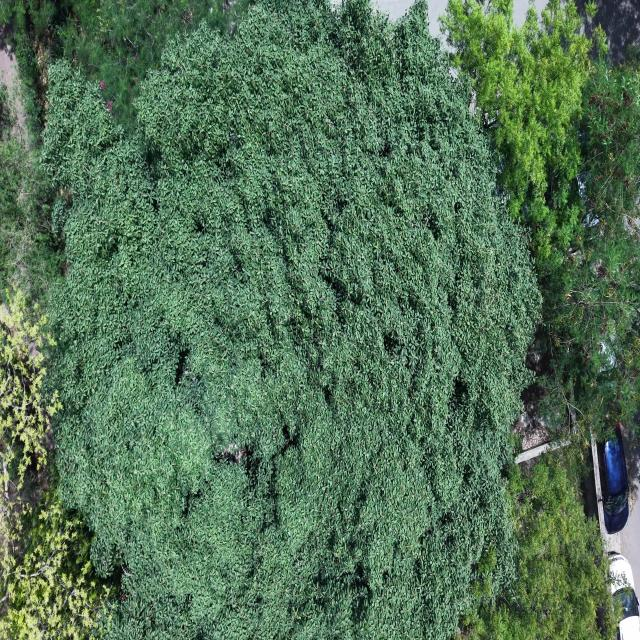DRY_AREA: (0, 26, 24, 133)
VEGETATION_TREE: (0, 0, 639, 639), (44, 0, 539, 638), (445, 0, 639, 440), (447, 0, 639, 444), (0, 88, 113, 639), (442, 0, 603, 268), (0, 291, 113, 639), (541, 51, 639, 430), (0, 0, 250, 123), (467, 455, 616, 639), (0, 488, 115, 639), (0, 291, 60, 573), (0, 85, 63, 303), (583, 48, 639, 222), (0, 23, 51, 146), (0, 84, 12, 149), (0, 83, 13, 139)
